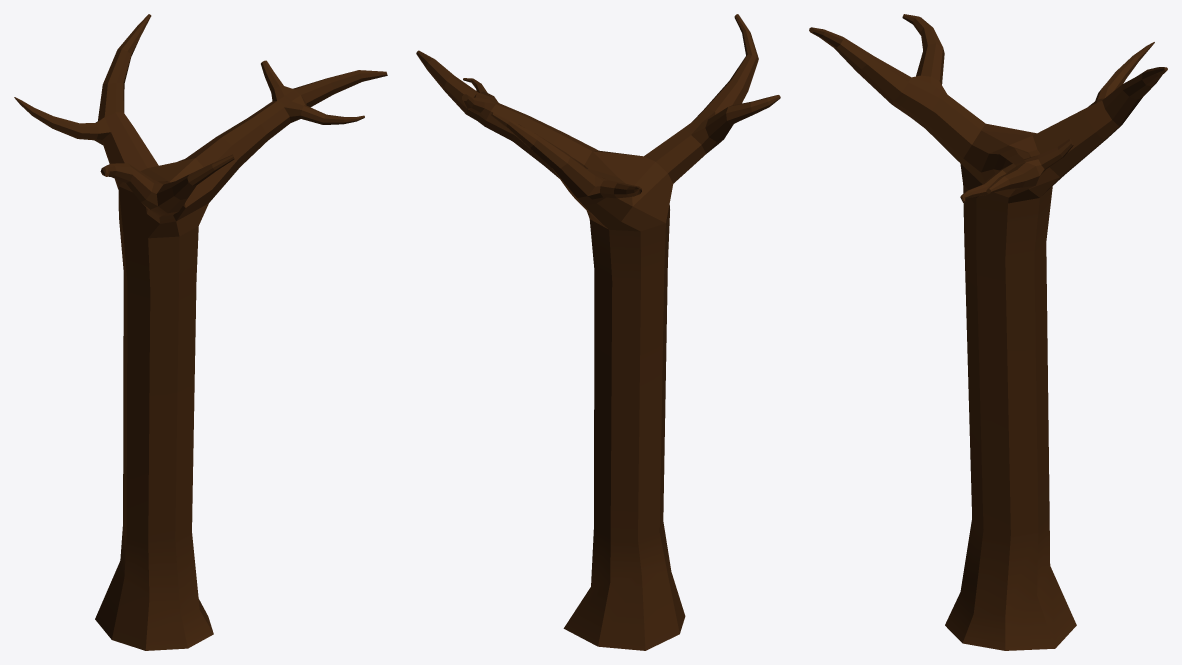
File: Tree03.fbx
The picture shows the model from 3 angles, left to right: view 1: azimuth 30°, elevation 25°; view 2: azimuth 150°, elevation 25°; view 3: azimuth 270°, elevation 25°; orthographic projection. The views are drawn at different scales.
Parts seen in each view (by area): view 1: pCylinder34; view 2: pCylinder34; view 3: pCylinder34.
Part boxes in pixels (x1,y1,x2,y2): pCylinder34: [14, 14, 387, 650]; pCylinder34: [416, 14, 780, 650]; pCylinder34: [809, 14, 1167, 650].
Size of the model in its own units: 2.27 by 3.67 by 2.02.
